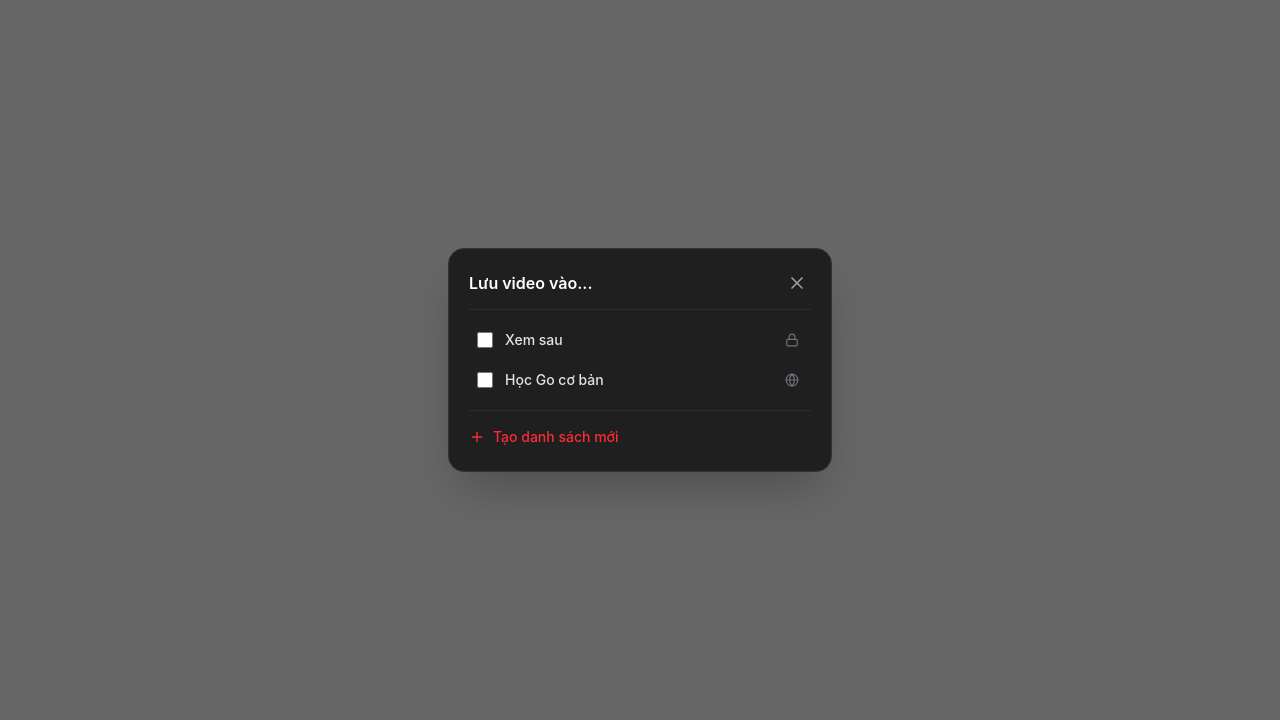
it: PL1-web: Playlists & Watch Later Unit Tests (ADR-024) › 1. Save Dialog › rolls back checkbox state on 500 server error
This screenshot has width=1280, height=720.
// Click to check
Click the checkbox with test id "playlist-checkbox-pl-go". click: (485, 380)
box: [477, 372, 493, 388]
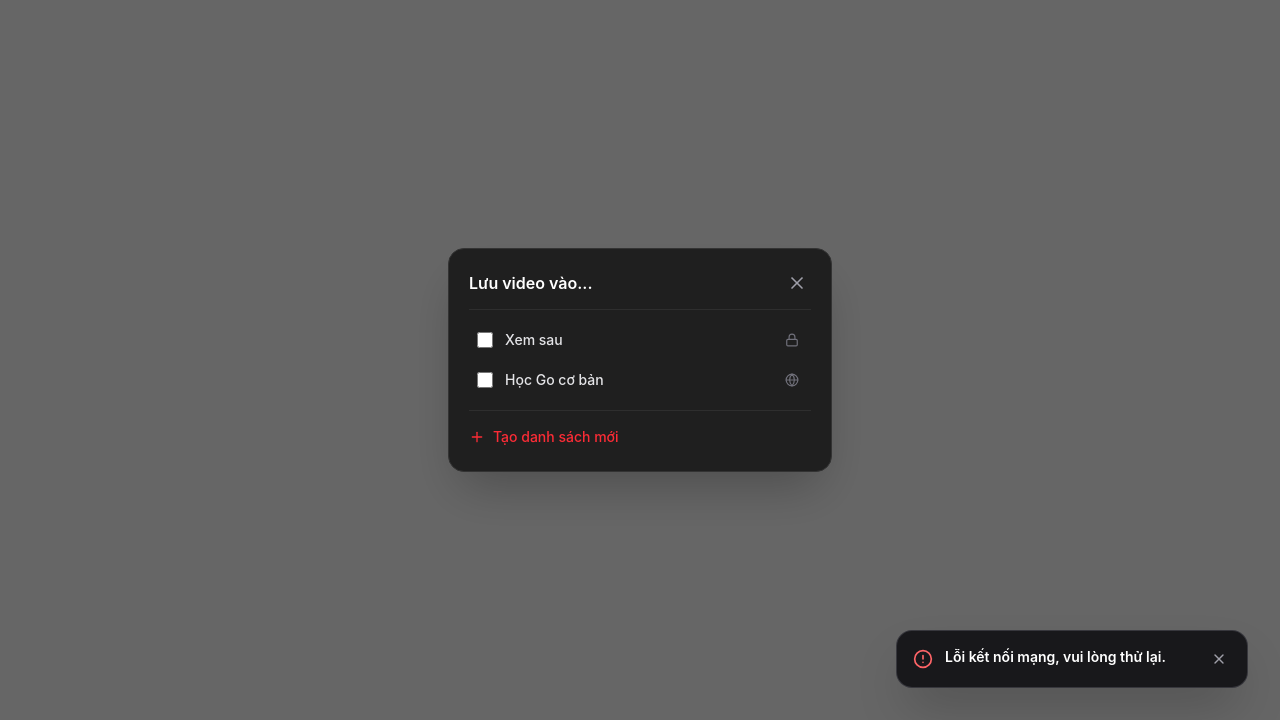
Check: the text "Lỗi kết nối mạng, vui lòng thử lại." is shown, box [945, 647, 1195, 667]
